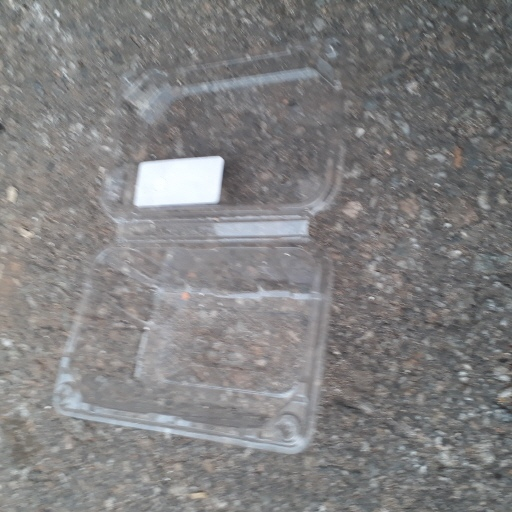Plastic_4: (52, 50, 346, 457)
